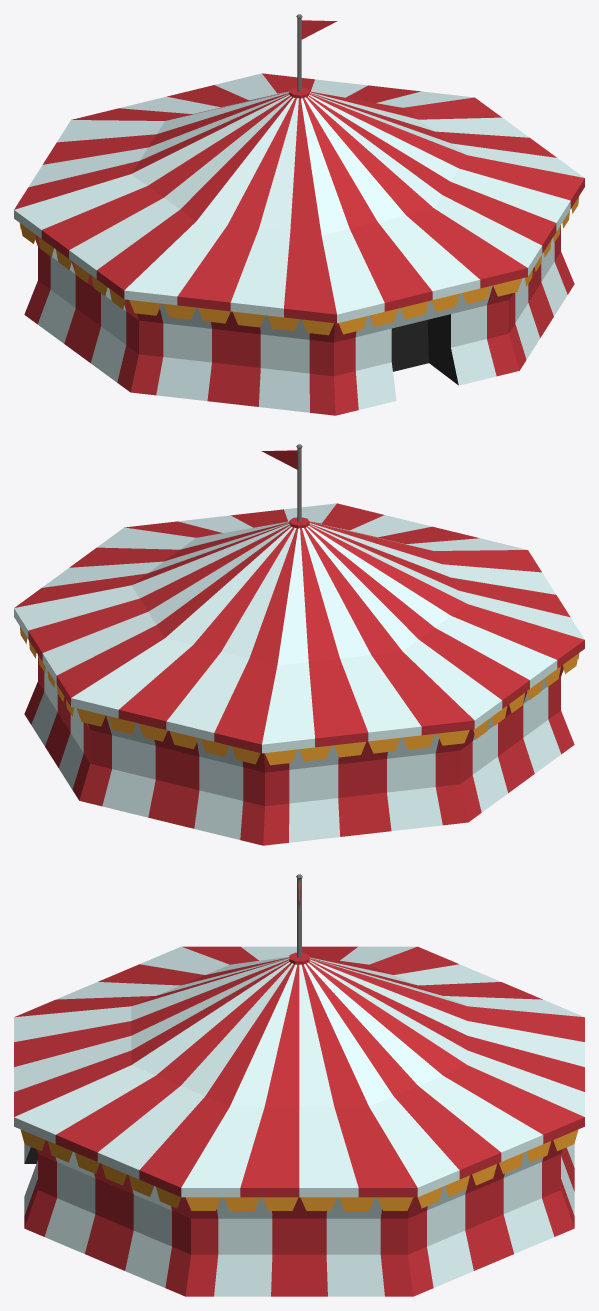
The model's file is buildings_tent-circus-big.fbx.
The picture shows the model from 3 angles, top to bottom: view 1: azimuth 30°, elevation 25°; view 2: azimuth 150°, elevation 25°; view 3: azimuth 270°, elevation 25°; orthographic projection. The views are drawn at different scales.
Visible parts, largest first — view 1: buildings_tent_circus_big; view 2: buildings_tent_circus_big; view 3: buildings_tent_circus_big.
Boxes of the visible parts, left/top/right/bottom form: buildings_tent_circus_big: left=14, top=14, right=584, bottom=415; buildings_tent_circus_big: left=14, top=444, right=584, bottom=845; buildings_tent_circus_big: left=14, top=874, right=584, bottom=1296.
Size of the model in its own units: 200 by 118 by 200.
